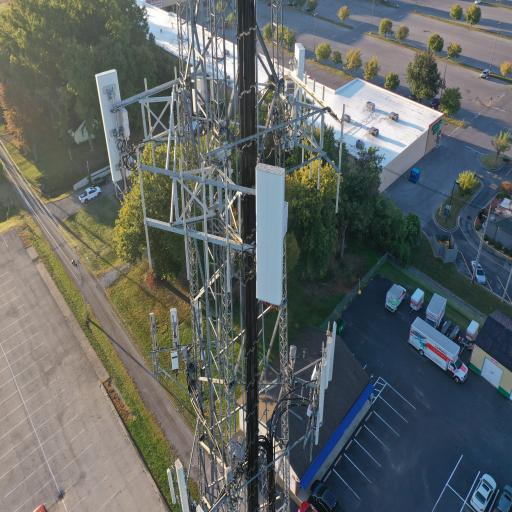supporting_tower: (90, 0, 368, 512)
